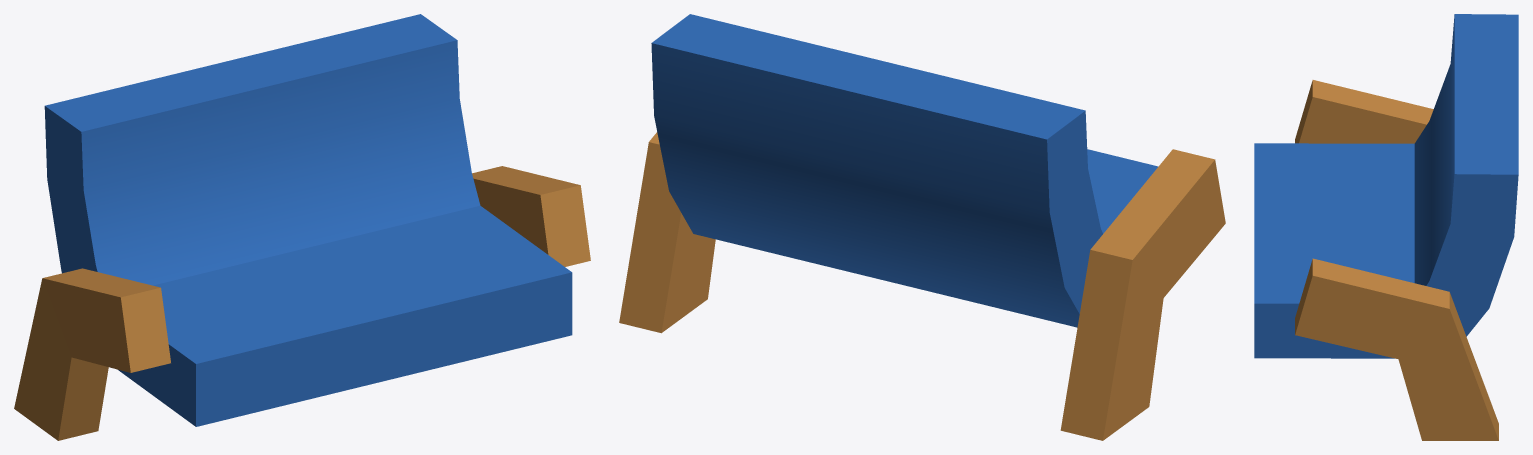
The model's file is bench01_s01.FBX.
3 renders of one model, left to right at view 1: azimuth 30°, elevation 25°; view 2: azimuth 150°, elevation 25°; view 3: azimuth 270°, elevation 25°, orthographic. The views are drawn at different scales.
Visible parts, largest first — view 1: bench01_s01; view 2: bench01_s01; view 3: bench01_s01.
Part boxes in pixels (x1=…): bench01_s01: x1=14, y1=14, x2=590, y2=440; bench01_s01: x1=619, y1=14, x2=1225, y2=440; bench01_s01: x1=1254, y1=14, x2=1518, y2=440.
Bounding box in the file's own units: 180 × 103 × 107.
Materials: 1 (1 with a texture image).
